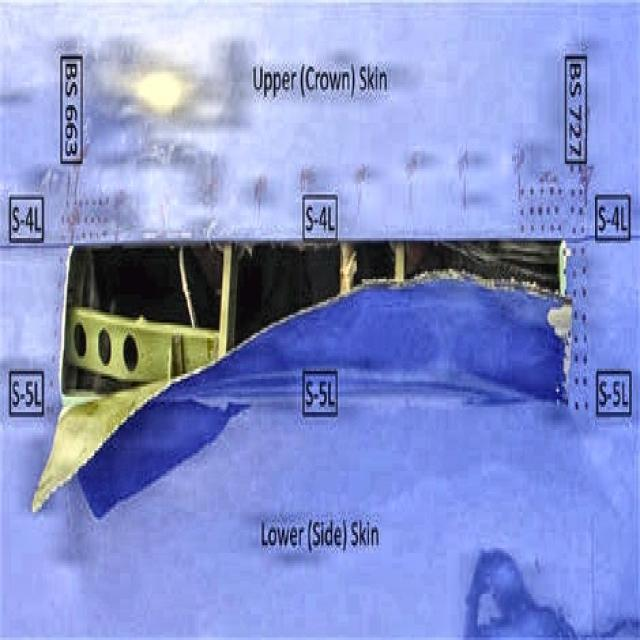crack: (27, 237, 579, 521)
